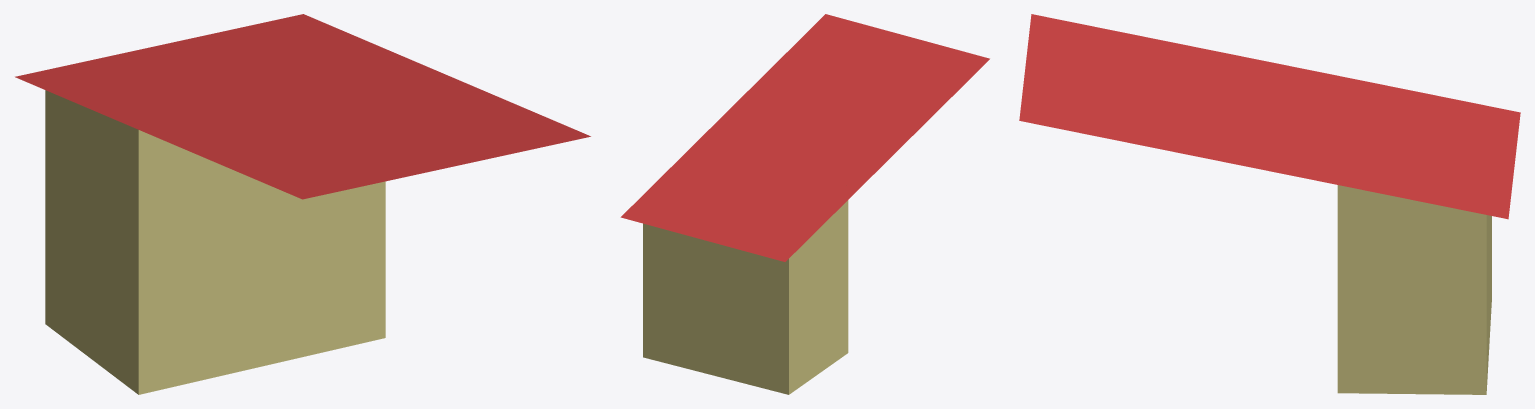
3 views of the same model, side by side, from view 1: azimuth 30°, elevation 25°; view 2: azimuth 150°, elevation 25°; view 3: azimuth 270°, elevation 25° (orthographic). The views are drawn at different scales.
Bounding box in the file's own units: 7.5 × 13.62 × 8.18.
